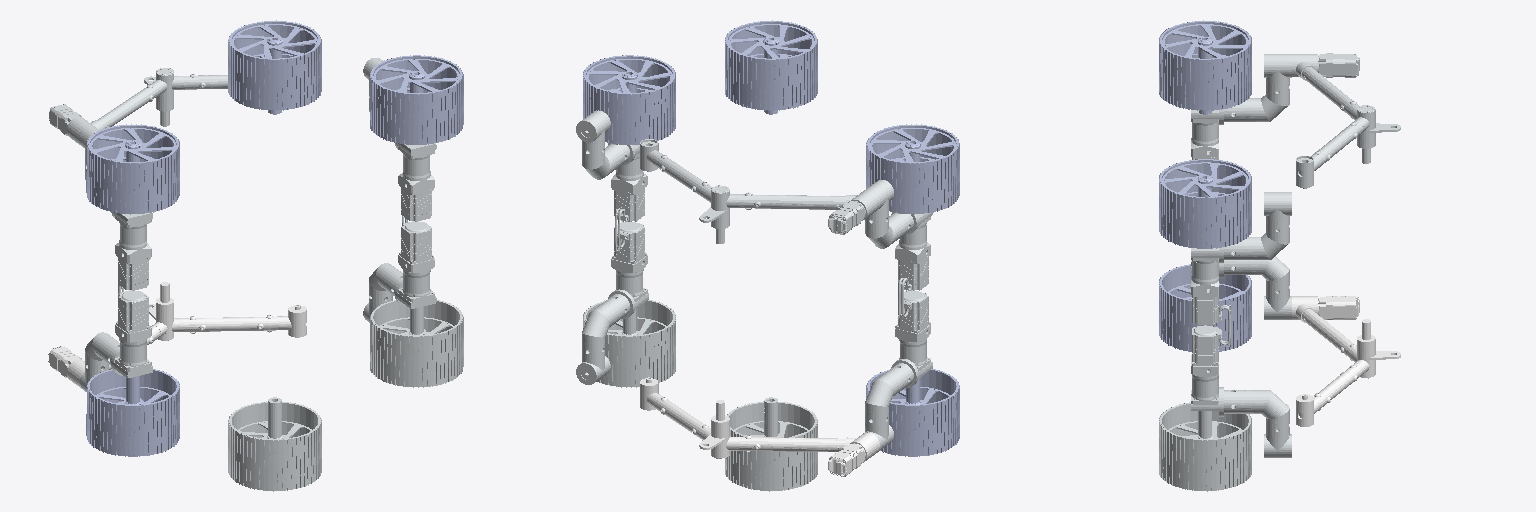
URDF robot description (ROVER 2025 MOVIL URDF):
<?xml version="1.0" encoding="utf-8"?>
<!-- This URDF was automatically created by SolidWorks to URDF Exporter! Originally created by [author] ([email redacted]) 
     Commit Version: 1.6.0-4-g7f85cfe  Build Version: 1.6.7995.38578
     For more information, please see http://wiki.ros.org/sw_urdf_exporter -->
<robot
  name="ROVER 2025 MOVIL URDF">
  <link
    name="Chasis">
    <inertial>
      <origin
        xyz="0.288438577723893 0.0109292123753549 6.7771748869416E-08"
        rpy="0 0 0" />
      <mass
        value="10" />
      <inertia
        ixx="0.0441193140560405"
        ixy="-2.21609953463795E-09"
        ixz="2.18954595758735E-08"
        iyy="0.0763142772480383"
        iyz="3.8337172520723E-09"
        izz="0.0335955150266498" />
    </inertial>
    <visual>
      <origin
        xyz="0 0 0"
        rpy="0 0 0" />
      <geometry>
        <mesh
          filename="package://ROVER 2025 MOVIL URDF/meshes/Chasis.STL" />
      </geometry>
      <material
        name="">
        <color
          rgba="0.752941176470588 0.752941176470588 0.752941176470588 1" />
      </material>
    </visual>
    <collision>
      <origin
        xyz="0 0 0"
        rpy="0 0 0" />
      <geometry>
        <mesh
          filename="package://ROVER 2025 MOVIL URDF/meshes/Chasis.STL" />
      </geometry>
    </collision>
  </link>
  <link
    name="Rocker_L">
    <inertial>
      <origin
        xyz="-0.016888 -0.050821 -0.015887"
        rpy="0 0 0" />
      <mass
        value="3.409" />
      <inertia
        ixx="0.0010374"
        ixy="-4.9666E-05"
        ixz="2.3834E-07"
        iyy="0.0013259"
        iyz="-2.2722E-06"
        izz="0.00088528" />
    </inertial>
    <visual>
      <origin
        xyz="0 0 0"
        rpy="0 0 0" />
      <geometry>
        <mesh
          filename="package://ROVER 2025 MOVIL URDF/meshes/Rocker_L.STL" />
      </geometry>
      <material
        name="">
        <color
          rgba="0.89804 0.91765 0.92941 1" />
      </material>
    </visual>
    <collision>
      <origin
        xyz="0 0 0"
        rpy="0 0 0" />
      <geometry>
        <mesh
          filename="package://ROVER 2025 MOVIL URDF/meshes/Rocker_L.STL" />
      </geometry>
    </collision>
  </link>
  <joint
    name="Joint_Rocker_L"
    type="revolute">
    <origin
      xyz="0.32185 0 0.2909"
      rpy="0 0 0" />
    <parent
      link="Chasis" />
    <child
      link="Rocker_L" />
    <axis
      xyz="0 0 1" />
    <limit
      lower="-0.5236"
      upper="0.5236"
      effort="0"
      velocity="0" />
    <dynamics
      damping="0.1"
      friction="0.1" />
  </joint>
  <link
    name="Bogie_L">
    <inertial>
      <origin
        xyz="-0.0473219934702857 -0.10000232458926 -0.0634980458171141"
        rpy="0 0 0" />
      <mass
        value="4.959" />
      <inertia
        ixx="0.000564122632607546"
        ixy="-8.72861092983669E-05"
        ixz="3.68546006648273E-05"
        iyy="0.000590209221392833"
        iyz="3.87241365468746E-06"
        izz="0.000709623220393141" />
    </inertial>
    <visual>
      <origin
        xyz="0 0 0"
        rpy="0 0 0" />
      <geometry>
        <mesh
          filename="package://ROVER 2025 MOVIL URDF/meshes/Bogie_L.STL" />
      </geometry>
      <material
        name="">
        <color
          rgba="0.792156862745098 0.819607843137255 0.933333333333333 1" />
      </material>
    </visual>
    <collision>
      <origin
        xyz="0 0 0"
        rpy="0 0 0" />
      <geometry>
        <mesh
          filename="package://ROVER 2025 MOVIL URDF/meshes/Bogie_L.STL" />
      </geometry>
    </collision>
  </link>
  <joint
    name="Joint_Bogie_L"
    type="revolute">
    <origin
      xyz="0.25166 -0.13101 0.065599"
      rpy="0 0 0" />
    <parent
      link="Rocker_L" />
    <child
      link="Bogie_L" />
    <axis
      xyz="0 0 1" />
    <limit
      lower="-0.5236"
      upper="0.5236"
      effort="0"
      velocity="0" />
    <dynamics
      damping="0.1"
      friction="0.1" />
  </joint>
  <link
    name="Rueda_Media_L">
    <inertial>
      <origin
        xyz="-1.41782538607416E-05 -5.28983833586461E-06 -0.0656774133963889"
        rpy="0 0 0" />
      <mass
        value="1.5" />
      <inertia
        ixx="0.00509456161848143"
        ixy="6.65100010201582E-08"
        ixz="2.22253980665638E-07"
        iyy="0.00509467286171472"
        iyz="5.23246354634947E-07"
        izz="0.00784566878914298" />
    </inertial>
    <visual>
      <origin
        xyz="0 0 0"
        rpy="0 0 0" />
      <geometry>
        <mesh
          filename="package://ROVER 2025 MOVIL URDF/meshes/Rueda_Media_L.STL" />
      </geometry>
      <material
        name="">
        <color
          rgba="0.792156862745098 0.819607843137255 0.933333333333333 1" />
      </material>
    </visual>
    <collision>
      <origin
        xyz="0 0 0"
        rpy="0 0 0" />
      <geometry>
        <mesh
          filename="package://ROVER 2025 MOVIL URDF/meshes/Rueda_Media_L.STL" />
      </geometry>
    </collision>
  </link>
  <joint
    name="Joint_Rueda_Media_L"
    type="continuous">
    <origin
      xyz="-0.17873 -0.213 0.1555"
      rpy="0 0 0" />
    <parent
      link="Bogie_L" />
    <child
      link="Rueda_Media_L" />
    <axis
      xyz="0 0 1" />
    <limit
      effort="20"
      velocity="1000" />
    <dynamics
      damping="0.1"
      friction="0.1" />
  </joint>
  <link
    name="Direccion_Trasera_L">
    <inertial>
      <origin
        xyz="-1.04384994870088E-06 -0.115237388246396 -0.11321511890596"
        rpy="0 0 0" />
      <mass
        value="3.25" />
      <inertia
        ixx="0.00140891940377472"
        ixy="3.16261705418916E-07"
        ixz="4.68544041473696E-08"
        iyy="0.000853513556309629"
        iyz="-0.000164942063511229"
        izz="0.00121518305852113" />
    </inertial>
    <visual>
      <origin
        xyz="0 0 0"
        rpy="0 0 0" />
      <geometry>
        <mesh
          filename="package://ROVER 2025 MOVIL URDF/meshes/Direccion_Trasera_L.STL" />
      </geometry>
      <material
        name="">
        <color
          rgba="0.898039215686275 0.917647058823529 0.929411764705882 1" />
      </material>
    </visual>
    <collision>
      <origin
        xyz="0 0 0"
        rpy="0 0 0" />
      <geometry>
        <mesh
          filename="package://ROVER 2025 MOVIL URDF/meshes/Direccion_Trasera_L.STL" />
      </geometry>
    </collision>
  </link>
  <joint
    name="Joint_Direccion_Trasera_L"
    type="revolute">
    <origin
      xyz="0.17127 -0.0315 -0.070565"
      rpy="0 0 0" />
    <parent
      link="Bogie_L" />
    <child
      link="Direccion_Trasera_L" />
    <axis
      xyz="0 1 0" />
    <limit
      lower="-1.5708"
      upper="1.5708"
      effort="10"
      velocity="1000" />
    <dynamics
      damping="0.1"
      friction="0.1" />
  </joint>
  <link
    name="Rueda_Trasera_L">
    <inertial>
      <origin
        xyz="-7.46093003556325E-06 -1.31658571650428E-05 -0.0656774133963628"
        rpy="0 0 0" />
      <mass
        value="1.5" />
      <inertia
        ixx="0.00509454208194118"
        ixy="-4.32272588143068E-08"
        ixz="-1.6607984674026E-07"
        iyy="0.00509469239825523"
        iyz="5.43692067157363E-07"
        izz="0.00784566878914282" />
    </inertial>
    <visual>
      <origin
        xyz="0 0 0"
        rpy="0 0 0" />
      <geometry>
        <mesh
          filename="package://ROVER 2025 MOVIL URDF/meshes/Rueda_Trasera_L.STL" />
      </geometry>
      <material
        name="">
        <color
          rgba="0.792156862745098 0.819607843137255 0.933333333333333 1" />
      </material>
    </visual>
    <collision>
      <origin
        xyz="0 0 0"
        rpy="0 0 0" />
      <geometry>
        <mesh
          filename="package://ROVER 2025 MOVIL URDF/meshes/Rueda_Trasera_L.STL" />
      </geometry>
    </collision>
  </link>
  <joint
    name="Joint_Rueda_Trasera_L"
    type="continuous">
    <origin
      xyz="0 -0.1815 0.063"
      rpy="0 0 0" />
    <parent
      link="Direccion_Trasera_L" />
    <child
      link="Rueda_Trasera_L" />
    <axis
      xyz="0 0 1" />
    <limit
      effort="20"
      velocity="1000" />
    <dynamics
      damping="0.1"
      friction="0.1" />
  </joint>
  <link
    name="Direccion_Delantera_L">
    <inertial>
      <origin
        xyz="-1.04384994838169E-06 -0.115237388246396 -0.11321511890596"
        rpy="0 0 0" />
      <mass
        value="3.25" />
      <inertia
        ixx="0.00140891940377473"
        ixy="3.16261705418385E-07"
        ixz="4.68544041469804E-08"
        iyy="0.000853513556309632"
        iyz="-0.00016494206351123"
        izz="0.00121518305852114" />
    </inertial>
    <visual>
      <origin
        xyz="0 0 0"
        rpy="0 0 0" />
      <geometry>
        <mesh
          filename="package://ROVER 2025 MOVIL URDF/meshes/Direccion_Delantera_L.STL" />
      </geometry>
      <material
        name="">
        <color
          rgba="0.898039215686275 0.917647058823529 0.929411764705882 1" />
      </material>
    </visual>
    <collision>
      <origin
        xyz="0 0 0"
        rpy="0 0 0" />
      <geometry>
        <mesh
          filename="package://ROVER 2025 MOVIL URDF/meshes/Direccion_Delantera_L.STL" />
      </geometry>
    </collision>
  </link>
  <joint
    name="Joint_Direccion_Delantera_L"
    type="revolute">
    <origin
      xyz="-0.27706 -0.16251 -0.0049008"
      rpy="0 0 0" />
    <parent
      link="Rocker_L" />
    <child
      link="Direccion_Delantera_L" />
    <axis
      xyz="0 1 0" />
    <limit
      lower="-1.5708"
      upper="1.5708"
      effort="10"
      velocity="1000" />
    <dynamics
      damping="0.1"
      friction="0.1" />
  </joint>
  <link
    name="Rueda_Delantera_L">
    <inertial>
      <origin
        xyz="-7.46093003538978E-06 -1.31658571647097E-05 -0.0656774133963627"
        rpy="0 0 0" />
      <mass
        value="1.5" />
      <inertia
        ixx="0.00509454208194127"
        ixy="-4.32272588315615E-08"
        ixz="-1.66079846734122E-07"
        iyy="0.00509469239825524"
        iyz="5.43692067162731E-07"
        izz="0.00784566878914289" />
    </inertial>
    <visual>
      <origin
        xyz="0 0 0"
        rpy="0 0 0" />
      <geometry>
        <mesh
          filename="package://ROVER 2025 MOVIL URDF/meshes/Rueda_Delantera_L.STL" />
      </geometry>
      <material
        name="">
        <color
          rgba="0.792156862745098 0.819607843137255 0.933333333333333 1" />
      </material>
    </visual>
    <collision>
      <origin
        xyz="0 0 0"
        rpy="0 0 0" />
      <geometry>
        <mesh
          filename="package://ROVER 2025 MOVIL URDF/meshes/Rueda_Delantera_L.STL" />
      </geometry>
    </collision>
  </link>
  <joint
    name="Joint_Rueda_Delantera_L"
    type="continuous">
    <origin
      xyz="0 -0.1815 0.063"
      rpy="0 0 0" />
    <parent
      link="Direccion_Delantera_L" />
    <child
      link="Rueda_Delantera_L" />
    <axis
      xyz="0 0 1" />
    <limit
      lower="-1.5708"
      upper="1.5708"
      effort="20"
      velocity="1000" />
    <dynamics
      damping="0.1"
      friction="0.1" />
  </joint>
  <link
    name="Rocker_R">
    <inertial>
      <origin
        xyz="0 0 0"
        rpy="0 0 0" />
      <mass
        value="3.409" />
      <inertia
        ixx="0"
        ixy="0"
        ixz="0"
        iyy="0"
        iyz="0"
        izz="0" />
    </inertial>
    <visual>
      <origin
        xyz="0 0 0"
        rpy="0 0 0" />
      <geometry>
        <mesh
          filename="package://ROVER 2025 MOVIL URDF/meshes/Rocker_R.STL" />
      </geometry>
      <material
        name="">
        <color
          rgba="1 1 1 1" />
      </material>
    </visual>
    <collision>
      <origin
        xyz="0 0 0"
        rpy="0 0 0" />
      <geometry>
        <mesh
          filename="package://ROVER 2025 MOVIL URDF/meshes/Rocker_R.STL" />
      </geometry>
    </collision>
  </link>
  <joint
    name="Joint_Rocker_R"
    type="revolute">
    <origin
      xyz="0.32185 0 -0.2909"
      rpy="0 0 0" />
    <parent
      link="Chasis" />
    <child
      link="Rocker_R" />
    <axis
      xyz="0 0 1" />
    <limit
      lower="-0.5236"
      upper="0.5236"
      effort="0"
      velocity="0" />
    <dynamics
      damping="0.1"
      friction="0.1" />
  </joint>
  <link
    name="Bogie_R">
    <inertial>
      <origin
        xyz="-0.047765 -0.10063 0.064313"
        rpy="0 0 0" />
      <mass
        value="4.959" />
      <inertia
        ixx="0.0005334"
        ixy="-6.6107E-05"
        ixz="-3.4349E-05"
        iyy="0.00056043"
        iyz="-3.8724E-06"
        izz="0.00065556" />
    </inertial>
    <visual>
      <origin
        xyz="0 0 0"
        rpy="0 0 0" />
      <geometry>
        <mesh
          filename="package://ROVER 2025 MOVIL URDF/meshes/Bogie_R.STL" />
      </geometry>
      <material
        name="">
        <color
          rgba="0.79216 0.81961 0.93333 1" />
      </material>
    </visual>
    <collision>
      <origin
        xyz="0 0 0"
        rpy="0 0 0" />
      <geometry>
        <mesh
          filename="package://ROVER 2025 MOVIL URDF/meshes/Bogie_R.STL" />
      </geometry>
    </collision>
  </link>
  <joint
    name="Joint_Bogie_R"
    type="revolute">
    <origin
      xyz="0.25166 -0.13101 -0.065599"
      rpy="0 0 0" />
    <parent
      link="Rocker_R" />
    <child
      link="Bogie_R" />
    <axis
      xyz="0 0 1" />
    <limit
      lower="-0.5236"
      upper="0.5236"
      effort="0"
      velocity="0" />
    <dynamics
      damping="0.1"
      friction="0.1" />
  </joint>
  <link
    name="Rueda_Media_R">
    <inertial>
      <origin
        xyz="-1.41771139818281E-05 -5.29137608606955E-06 0.0656821054863143"
        rpy="0 0 0" />
      <mass
        value="1.5" />
      <inertia
        ixx="0.00509456185644659"
        ixy="6.64573397514058E-08"
        ixz="-2.22220630402095E-07"
        iyy="0.00509467313273941"
        iyz="-5.23321704678963E-07"
        izz="0.00784566880527025" />
    </inertial>
    <visual>
      <origin
        xyz="0 0 0"
        rpy="0 0 0" />
      <geometry>
        <mesh
          filename="package://ROVER 2025 MOVIL URDF/meshes/Rueda_Media_R.STL" />
      </geometry>
      <material
        name="">
        <color
          rgba="0.898039215686275 0.917647058823529 0.929411764705882 1" />
      </material>
    </visual>
    <collision>
      <origin
        xyz="0 0 0"
        rpy="0 0 0" />
      <geometry>
        <mesh
          filename="package://ROVER 2025 MOVIL URDF/meshes/Rueda_Media_R.STL" />
      </geometry>
    </collision>
  </link>
  <joint
    name="Joint_Rueda_Media_R"
    type="continuous">
    <origin
      xyz="-0.17873 -0.213 -0.1555"
      rpy="0 0 0" />
    <parent
      link="Bogie_R" />
    <child
      link="Rueda_Media_R" />
    <axis
      xyz="0 0 1" />
    <limit
      lower="0"
      upper="0"
      effort="20"
      velocity="1000" />
    <dynamics
      damping="0.1"
      friction="0.1" />
  </joint>
  <link
    name="Direccion_Trasera_R">
    <inertial>
      <origin
        xyz="-1.4183369628773E-06 -0.115237370236861 0.113215114964309"
        rpy="0 0 0" />
      <mass
        value="3.25" />
      <inertia
        ixx="0.00140891975002138"
        ixy="3.1699945700244E-07"
        ixz="-4.74293620196165E-08"
        iyy="0.000853514136619031"
        iyz="0.000164942038379824"
        izz="0.00121518320306354" />
    </inertial>
    <visual>
      <origin
        xyz="0 0 0"
        rpy="0 0 0" />
      <geometry>
        <mesh
          filename="package://ROVER 2025 MOVIL URDF/meshes/Direccion_Trasera_R.STL" />
      </geometry>
      <material
        name="">
        <color
          rgba="0.898039215686275 0.917647058823529 0.929411764705882 1" />
      </material>
    </visual>
    <collision>
      <origin
        xyz="0 0 0"
        rpy="0 0 0" />
      <geometry>
        <mesh
          filename="package://ROVER 2025 MOVIL URDF/meshes/Direccion_Trasera_R.STL" />
      </geometry>
    </collision>
  </link>
  <joint
    name="Joint_Direccion_Trasera_R"
    type="revolute">
    <origin
      xyz="0.17127 -0.0315 0.070565"
      rpy="0 0 0" />
    <parent
      link="Bogie_R" />
    <child
      link="Direccion_Trasera_R" />
    <axis
      xyz="0 1 0" />
    <limit
      lower="-1.5708"
      upper="1.5708"
      effort="10"
      velocity="1000" />
    <dynamics
      damping="0.1"
      friction="0.1" />
  </joint>
  <link
    name="Rueda_Trasera_R">
    <inertial>
      <origin
        xyz="-7.45906839494381E-06 -1.31663024416917E-05 0.0656821054862859"
        rpy="0 0 0" />
      <mass
        value="1.5" />
      <inertia
        ixx="0.00509454238542716"
        ixy="-4.32526822157421E-08"
        ixz="1.66153828608011E-07"
        iyy="0.00509469260375968"
        iyz="-5.43728351436261E-07"
        izz="0.00784566880527031" />
    </inertial>
    <visual>
      <origin
        xyz="0 0 0"
        rpy="0 0 0" />
      <geometry>
        <mesh
          filename="package://ROVER 2025 MOVIL URDF/meshes/Rueda_Trasera_R.STL" />
      </geometry>
      <material
        name="">
        <color
          rgba="0.898039215686275 0.917647058823529 0.929411764705882 1" />
      </material>
    </visual>
    <collision>
      <origin
        xyz="0 0 0"
        rpy="0 0 0" />
      <geometry>
        <mesh
          filename="package://ROVER 2025 MOVIL URDF/meshes/Rueda_Trasera_R.STL" />
      </geometry>
    </collision>
  </link>
  <joint
    name="Joint_Rueda_Trasera_R"
    type="continuous">
    <origin
      xyz="0 -0.1815 -0.063"
      rpy="0 0 0" />
    <parent
      link="Direccion_Trasera_R" />
    <child
      link="Rueda_Trasera_R" />
    <axis
      xyz="0 0 1" />
    <limit
      effort="20"
      velocity="1000" />
    <dynamics
      damping="0.1"
      friction="0.1" />
  </joint>
  <link
    name="Direccion_Delantera_R">
    <inertial>
      <origin
        xyz="-1.4183369623777E-06 -0.115237370236861 0.11321511496431"
        rpy="0 0 0" />
      <mass
        value="3.25" />
      <inertia
        ixx="0.00140891975002136"
        ixy="3.16999457002059E-07"
        ixz="-4.74293620188041E-08"
        iyy="0.000853514136619024"
        iyz="0.00016494203837982"
        izz="0.00121518320306352" />
    </inertial>
    <visual>
      <origin
        xyz="0 0 0"
        rpy="0 0 0" />
      <geometry>
        <mesh
          filename="package://ROVER 2025 MOVIL URDF/meshes/Direccion_Delantera_R.STL" />
      </geometry>
      <material
        name="">
        <color
          rgba="0.898039215686275 0.917647058823529 0.929411764705882 1" />
      </material>
    </visual>
    <collision>
      <origin
        xyz="0 0 0"
        rpy="0 0 0" />
      <geometry>
        <mesh
          filename="package://ROVER 2025 MOVIL URDF/meshes/Direccion_Delantera_R.STL" />
      </geometry>
    </collision>
  </link>
  <joint
    name="Joint_Direccion_Delantera_R"
    type="revolute">
    <origin
      xyz="-0.27706 -0.16251 0.0049008"
      rpy="0 0 0" />
    <parent
      link="Rocker_R" />
    <child
      link="Direccion_Delantera_R" />
    <axis
      xyz="0 1 0" />
    <limit
      lower="-1.5708"
      upper="1.5708"
      effort="10"
      velocity="1000" />
    <dynamics
      damping="0.1"
      friction="0.1" />
  </joint>
  <link
    name="Rueda_Delantera_R">
    <inertial>
      <origin
        xyz="-7.45906839449972E-06 -1.31663024435791E-05 0.0656821054862848"
        rpy="0 0 0" />
      <mass
        value="1.5" />
      <inertia
        ixx="0.00509454238542721"
        ixy="-4.32526822051539E-08"
        ixz="1.66153828614882E-07"
        iyy="0.00509469260375968"
        iyz="-5.43728351457097E-07"
        izz="0.00784566880527035" />
    </inertial>
    <visual>
      <origin
        xyz="0 0 0"
        rpy="0 0 0" />
      <geometry>
        <mesh
          filename="package://ROVER 2025 MOVIL URDF/meshes/Rueda_Delantera_R.STL" />
      </geometry>
      <material
        name="">
        <color
          rgba="0.792156862745098 0.819607843137255 0.933333333333333 1" />
      </material>
    </visual>
    <collision>
      <origin
        xyz="0 0 0"
        rpy="0 0 0" />
      <geometry>
        <mesh
          filename="package://ROVER 2025 MOVIL URDF/meshes/Rueda_Delantera_R.STL" />
      </geometry>
    </collision>
  </link>
  <joint
    name="Joint_Rueda_Delantera_R"
    type="continuous">
    <origin
      xyz="0 -0.1815 -0.063"
      rpy="0 0 0" />
    <parent
      link="Direccion_Delantera_R" />
    <child
      link="Rueda_Delantera_R" />
    <axis
      xyz="0 0 1" />
    <limit
      effort="20"
      velocity="1000" />
    <dynamics
      damping="0.1"
      friction="0.1" />
  </joint>
</robot>

--- Facts derived from the render (not from the file) ---
The picture shows the robot from 3 angles, left to right: view 1: azimuth 30°, elevation 25°; view 2: azimuth 150°, elevation 25°; view 3: azimuth 270°, elevation 25°; orthographic projection.
Model ROVER 2025 MOVIL URDF with 15 links and 14 joints (8 revolute, 6 continuous), rooted at Chasis, posed every joint at zero.
Links seen in each view (by area): view 1: Rueda_Media_L, Rueda_Media_R, Rueda_Trasera_L, Rueda_Delantera_L, Rueda_Trasera_R, Rueda_Delantera_R, Rocker_R, Direccion_Delantera_R, Direccion_Trasera_R, Rocker_L, Direccion_Delantera_L, Direccion_Trasera_L; view 2: Rueda_Media_L, Rueda_Delantera_L, Rueda_Trasera_L, Rueda_Media_R, Rocker_L, Rocker_R, Rueda_Delantera_R, Rueda_Trasera_R, Direccion_Trasera_R, Direccion_Delantera_R, Direccion_Trasera_L, Direccion_Delantera_L; view 3: Rueda_Media_L, Rueda_Trasera_L, Rueda_Trasera_R, Direccion_Trasera_R, Rocker_R, Rocker_L, Rueda_Delantera_R, Direccion_Trasera_L, Direccion_Delantera_L, Direccion_Delantera_R.
Boxes of the visible links, x1,y1,x2,y2 form: Rueda_Media_L: (228,20,321,114); Rueda_Media_R: (228,397,321,491); Rueda_Trasera_L: (370,55,463,144); Rueda_Delantera_L: (86,124,179,214); Rueda_Trasera_R: (370,300,463,387); Rueda_Delantera_R: (86,369,179,456); Rocker_R: (48,282,306,388); Direccion_Delantera_R: (80,285,152,391); Direccion_Trasera_R: (363,216,436,322); Rocker_L: (49,68,227,144); Direccion_Delantera_L: (80,127,152,290); Direccion_Trasera_L: (363,58,436,221); Rueda_Media_L: (725,20,817,114); Rueda_Delantera_L: (866,124,959,214); Rueda_Trasera_L: (583,55,675,144); Rueda_Media_R: (725,397,817,491); Rocker_L: (640,139,879,243); Rocker_R: (640,377,879,476); Rueda_Delantera_R: (866,369,959,456); Rueda_Trasera_R: (583,300,675,387); Direccion_Trasera_R: (576,209,648,384); Direccion_Delantera_R: (863,279,932,452); Direccion_Trasera_L: (576,110,647,250); Direccion_Delantera_L: (864,180,932,319); Rueda_Media_L: (1159,21,1251,114); Rueda_Trasera_L: (1159,159,1251,248); Rueda_Trasera_R: (1159,402,1251,491); Direccion_Trasera_R: (1191,305,1291,457); Rocker_R: (1292,296,1400,426); Rocker_L: (1292,53,1400,188); Rueda_Delantera_R: (1159,264,1251,351); Direccion_Trasera_L: (1191,192,1291,346); Direccion_Delantera_L: (1191,54,1291,159); Direccion_Delantera_R: (1191,256,1291,319).
Size in the robot's own frame: 0.9 by 0.5189 by 1.02 metres.
Meshes: 15 distinct files referenced, 12 mesh visuals loaded (12 binary STL); not drawn: 3 (reference not matched to a file when rendering).